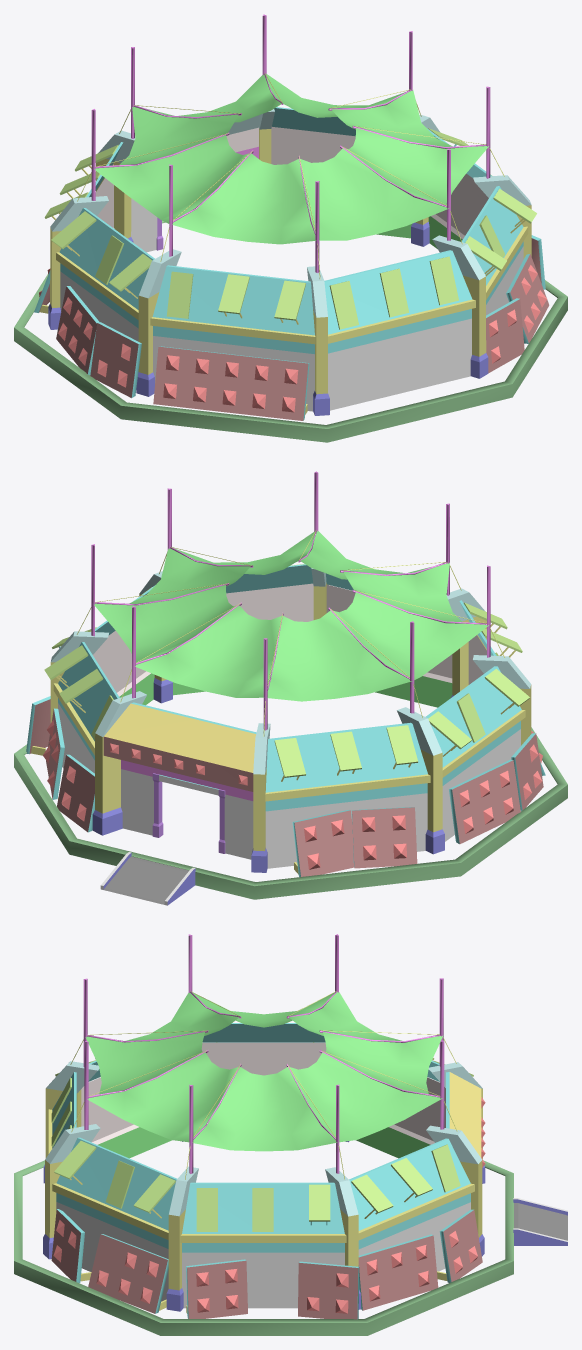
The model's file is L2fortress_02_s__Fort02_deffense.gltf.
3 renders of one model, top to bottom at view 1: azimuth 30°, elevation 25°; view 2: azimuth 150°, elevation 25°; view 3: azimuth 270°, elevation 25°, orthographic. The views are drawn at different scales.
Parts seen in each view (by area): view 1: Fort02_deffense; view 2: Fort02_deffense; view 3: Fort02_deffense.
Boxes of the visible parts, box(x1,y1,x2,y2) form: Fort02_deffense: box(14, 14, 567, 442); Fort02_deffense: box(14, 471, 567, 905); Fort02_deffense: box(14, 934, 567, 1335).
Size of the model in its own units: 11.44 by 5.56 by 12.67.
